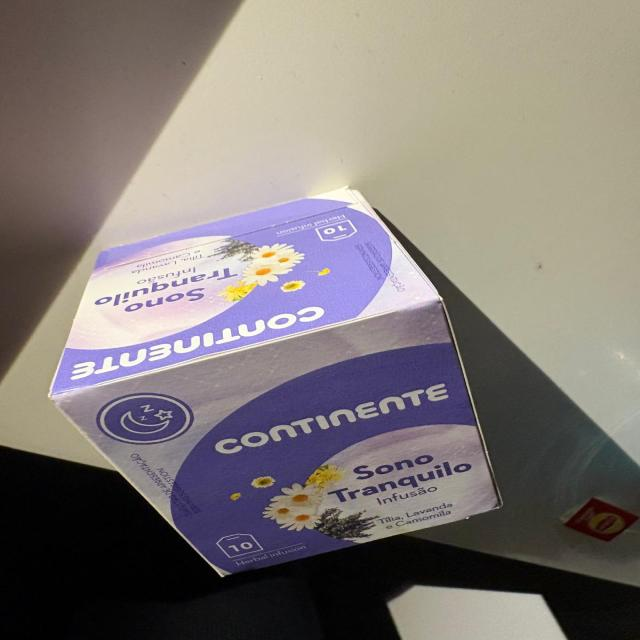good_package: (54, 187, 508, 574)
